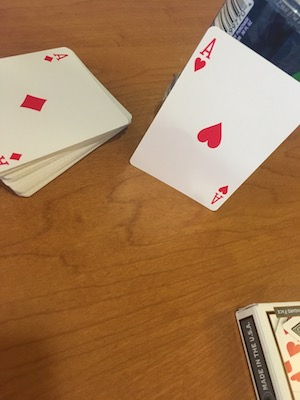AceOfDiamonds: (1, 36, 132, 172)
AceOfHearts: (139, 25, 294, 215)
